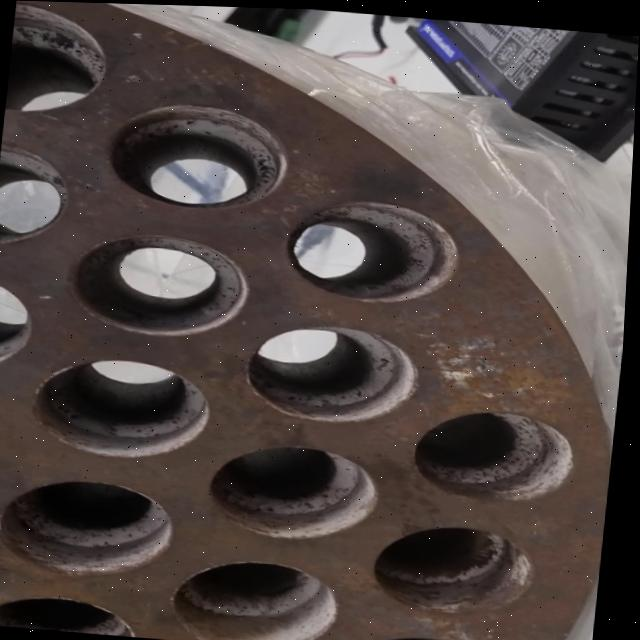Hole: (104, 97, 295, 212), (66, 226, 257, 340), (32, 352, 219, 462), (284, 193, 467, 305), (0, 473, 184, 581), (246, 317, 427, 426), (212, 437, 388, 544), (415, 401, 585, 502), (373, 517, 543, 616), (174, 553, 349, 640), (6, 1, 113, 118), (0, 139, 73, 251), (0, 588, 148, 636), (0, 274, 41, 376), (341, 628, 503, 640)
